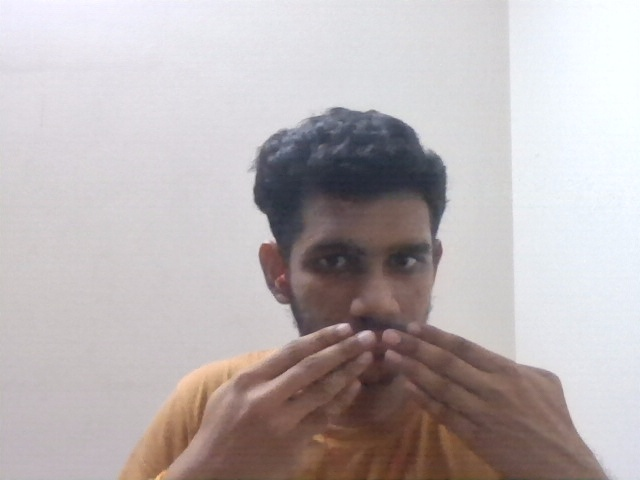thanks: (183, 305, 605, 468)
